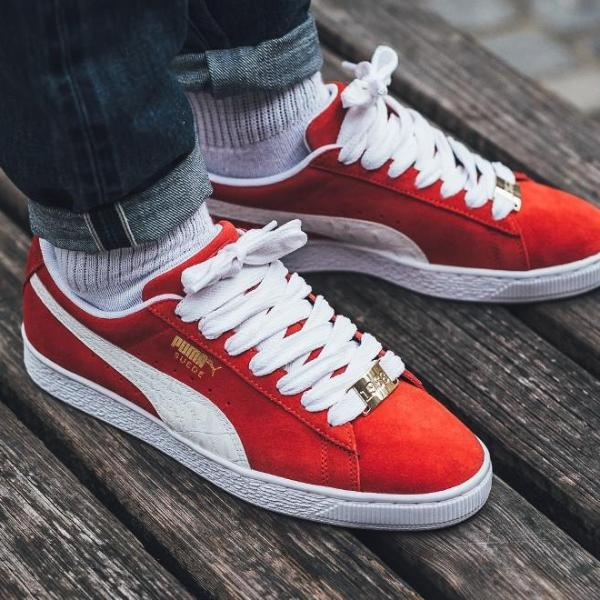Puma Suede Low Red: (12, 181, 505, 560), (123, 58, 600, 325)
